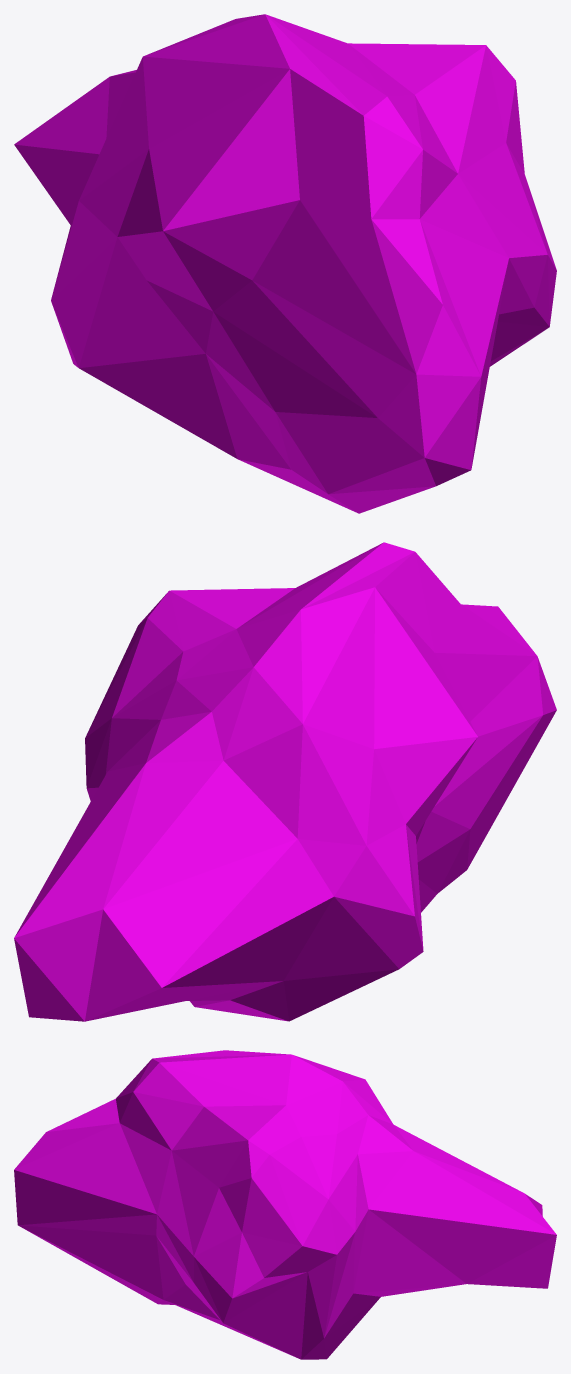
File: asteroid_4.fbx
The picture shows the model from 3 angles, top to bottom: view 1: azimuth 30°, elevation 25°; view 2: azimuth 150°, elevation 25°; view 3: azimuth 270°, elevation 25°; orthographic projection. The views are drawn at different scales.
Parts seen in each view (by area): view 1: asteroid_4; view 2: asteroid_4; view 3: asteroid_4.
Part boxes in pixels (left/top/right/bottom): asteroid_4: left=14, top=14, right=556, bottom=513; asteroid_4: left=14, top=542, right=556, bottom=1021; asteroid_4: left=14, top=1050, right=556, bottom=1359.
Size of the model in its own units: 29.8 by 31.09 by 55.19.
